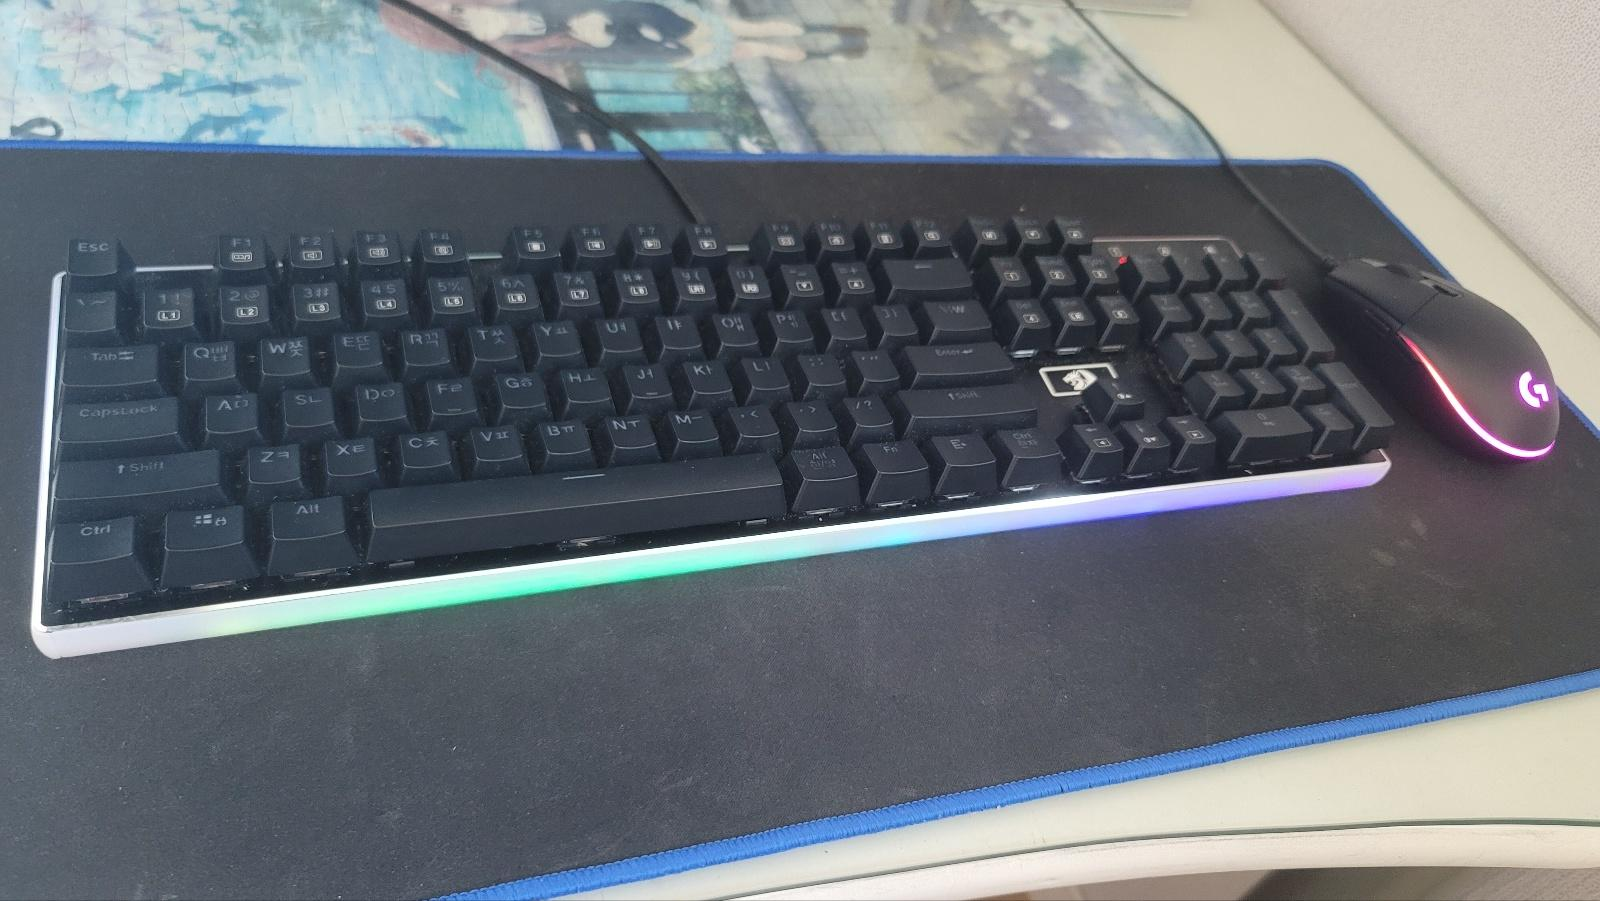keyboard: (27, 203, 1397, 657)
mouse: (1321, 254, 1562, 463)
